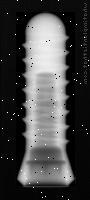Blue Sky Bio: (16, 12, 75, 186)
